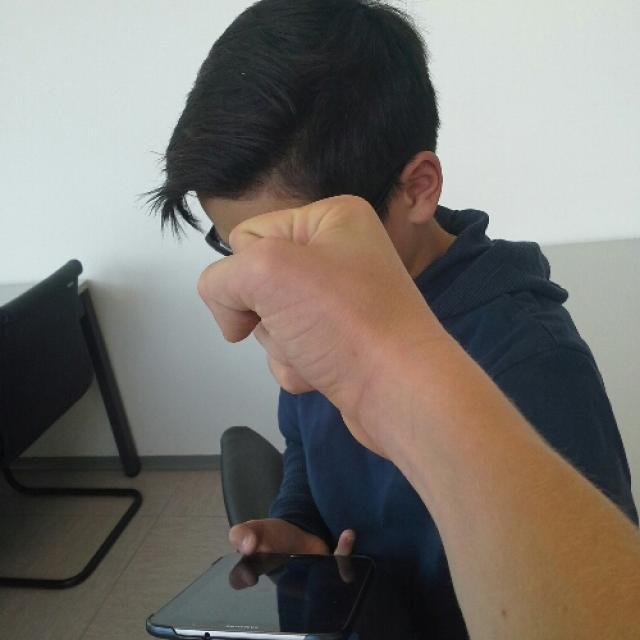rock: (210, 193, 410, 452)
